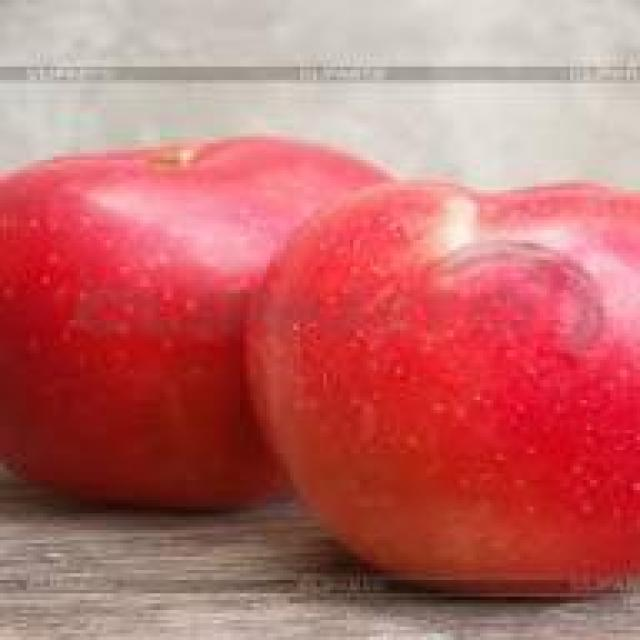apple: (243, 184, 630, 584), (3, 130, 390, 517)
